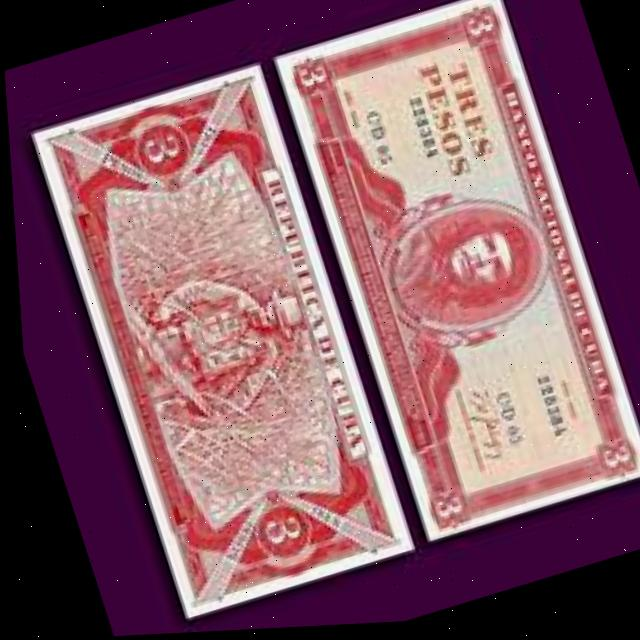banknote: (23, 56, 409, 626), (267, 0, 640, 551)
